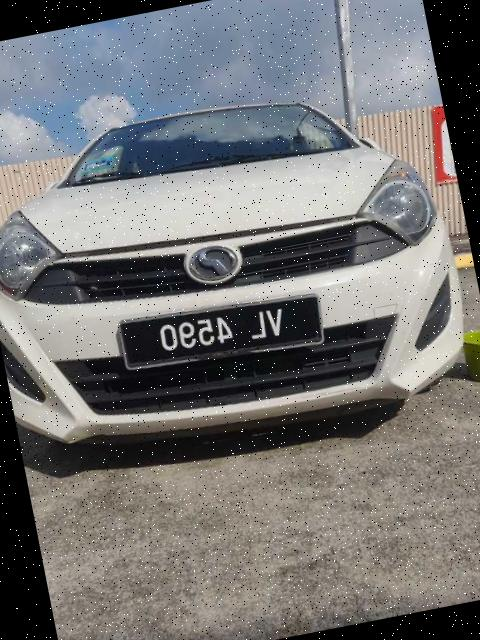License_Plate: (116, 284, 329, 383)
car: (1, 66, 480, 477)
